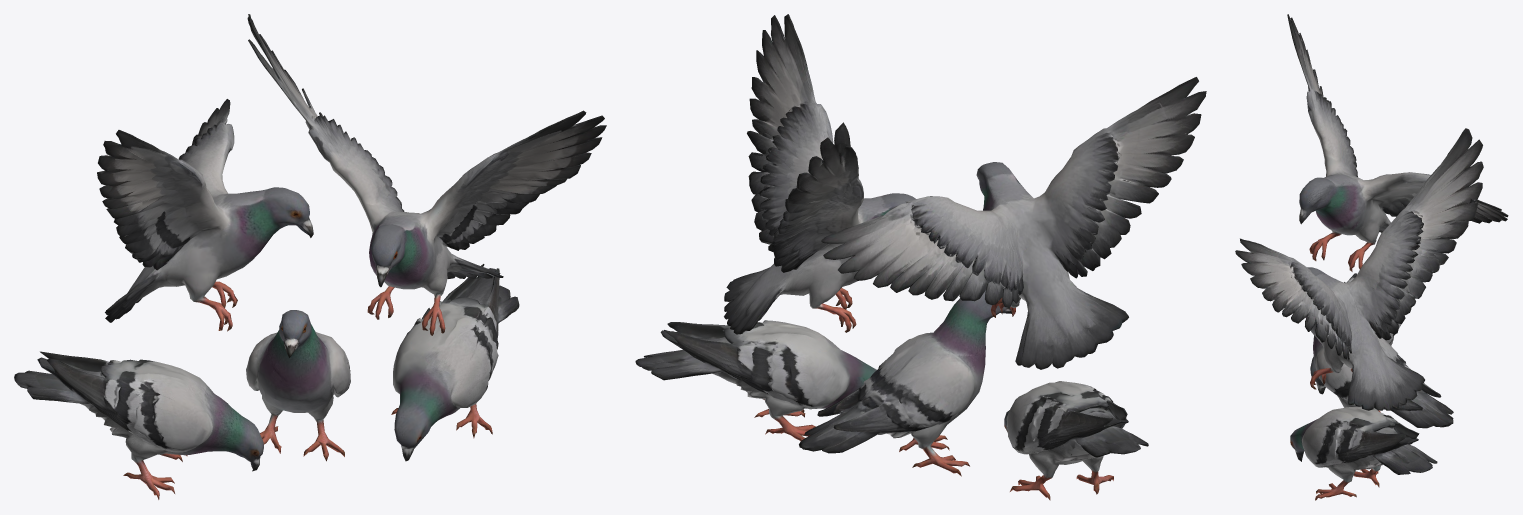
The model's file is prop-06-pigeon-flock.glb.
3 views of the same model, side by side, from view 1: azimuth 30°, elevation 25°; view 2: azimuth 150°, elevation 25°; view 3: azimuth 270°, elevation 25° (orthographic). The views are drawn at different scales.
Parts seen in each view (by area): view 1: tripo_node_acd6f373-5f5a-4076-bc5e-e60fa9641724; view 2: tripo_node_acd6f373-5f5a-4076-bc5e-e60fa9641724; view 3: tripo_node_acd6f373-5f5a-4076-bc5e-e60fa9641724.
Part boxes in pixels (box(x1,y1,x2,y2)): tripo_node_acd6f373-5f5a-4076-bc5e-e60fa9641724: box(14, 14, 606, 499); tripo_node_acd6f373-5f5a-4076-bc5e-e60fa9641724: box(635, 14, 1206, 500); tripo_node_acd6f373-5f5a-4076-bc5e-e60fa9641724: box(1235, 14, 1508, 500).
Size of the model in its own units: 1 by 0.7948 by 0.5903.
Materials: 1 (1 with a texture image).
